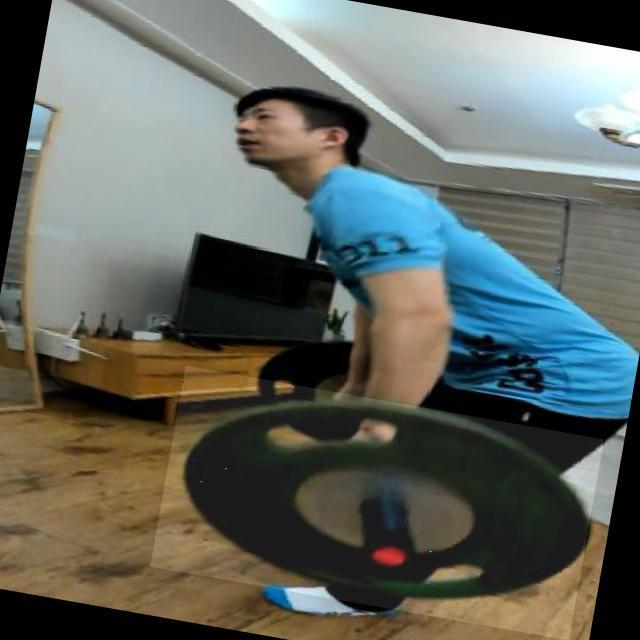barbell: (151, 366, 605, 640)
